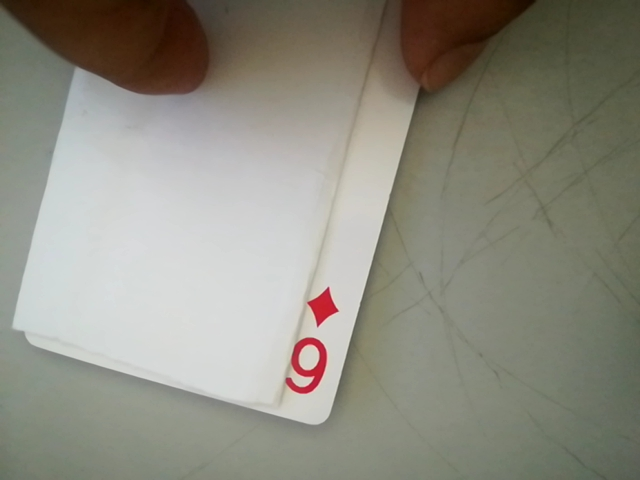fk 6: (273, 277, 347, 413)
